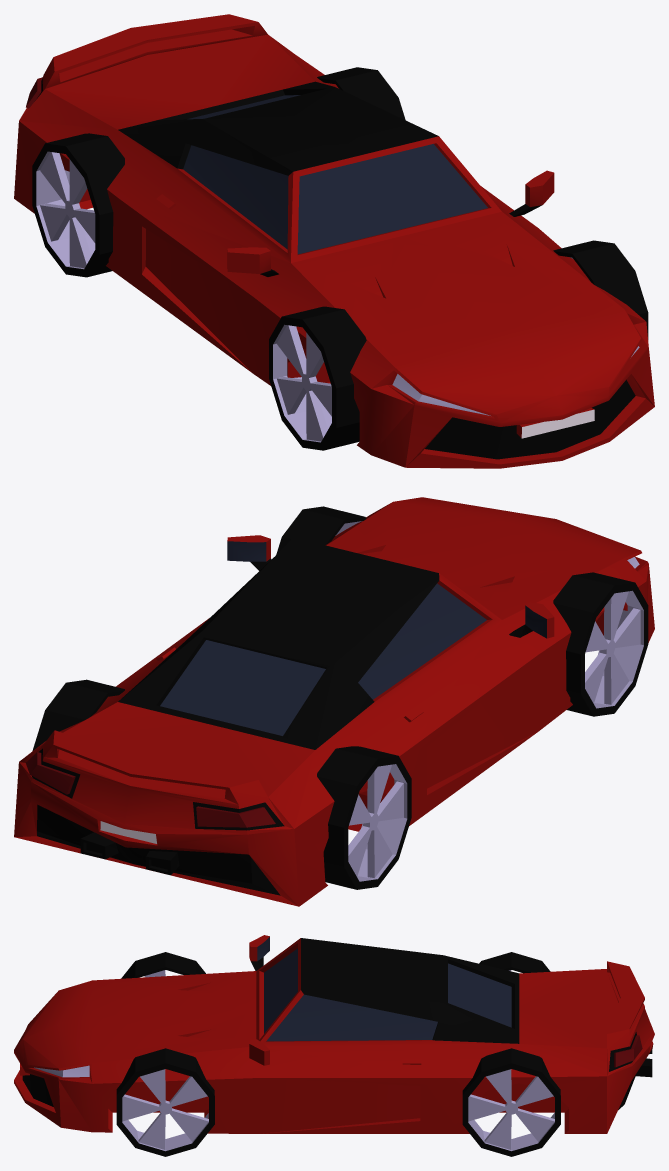
The model's file is sagitta.glb.
3 views of the same model, one above another, from view 1: azimuth 30°, elevation 25°; view 2: azimuth 150°, elevation 25°; view 3: azimuth 270°, elevation 25° (orthographic). The views are drawn at different scales.
Parts seen in each view (by area): view 1: paint, palette, trim, glass, rim, chrome, tyre, headlight; view 2: paint, trim, palette, glass, taillight, tyre; view 3: paint, palette, trim, glass, tyre (×2), taillight, headlight.
Boxes of the visible parts, bbox=[...] form: paint: bbox=[14, 14, 654, 468]; palette: bbox=[32, 67, 648, 450]; trim: bbox=[35, 78, 635, 459]; glass: bbox=[183, 95, 487, 254]; rim: bbox=[40, 152, 90, 268]; chrome: bbox=[521, 409, 594, 438]; tyre: bbox=[336, 71, 402, 118]; headlight: bbox=[392, 346, 639, 415]; paint: bbox=[14, 497, 654, 906]; trim: bbox=[32, 537, 532, 895]; palette: bbox=[32, 506, 648, 889]; glass: bbox=[160, 541, 546, 735]; taillight: bbox=[26, 752, 275, 827]; tyre: bbox=[276, 507, 365, 553]; paint: bbox=[14, 935, 654, 1133]; palette: bbox=[116, 952, 560, 1156]; trim: bbox=[22, 938, 652, 1110]; glass: bbox=[257, 937, 511, 1041]; tyre (×2): bbox=[124, 952, 539, 977]; taillight: bbox=[614, 1035, 642, 1067]; headlight: bbox=[34, 1065, 89, 1077].
Size of what is drawn, in the model's own units: 2 by 1.1 by 4.65.
12 materials, 3 textured.
